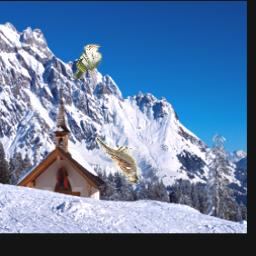Sparrow: (95, 137, 140, 184), (74, 44, 103, 80)
